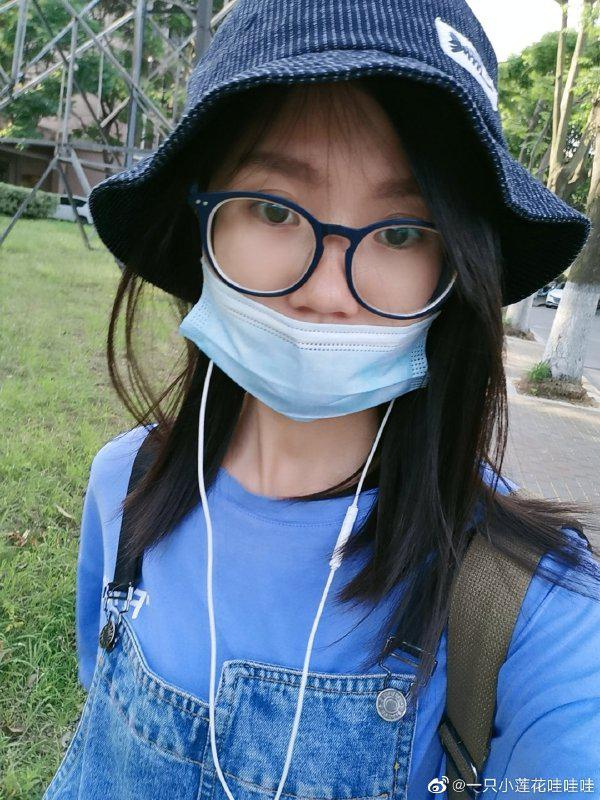WRONG: (196, 132, 445, 424)
